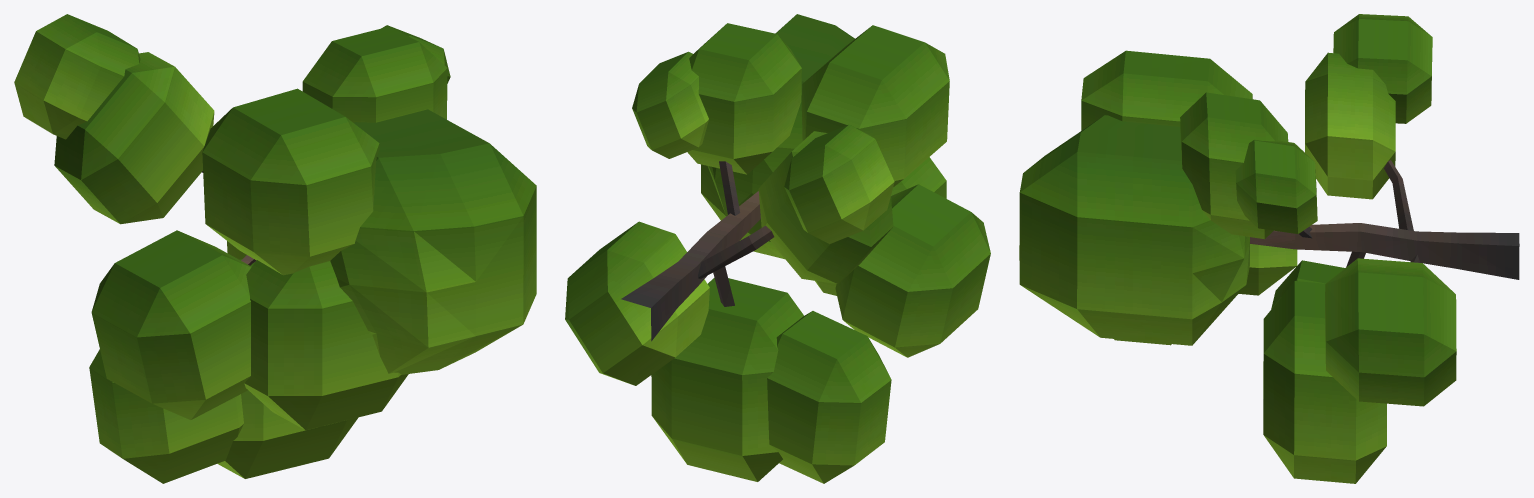
File: kts_005.gltf
3 renders of one model, left to right at view 1: azimuth 30°, elevation 25°; view 2: azimuth 150°, elevation 25°; view 3: azimuth 270°, elevation 25°, orthographic. The views are drawn at different scales.
Bounding box in the file's own units: 19.52 × 23.23 × 27.36.
1 material, 1 textured.
